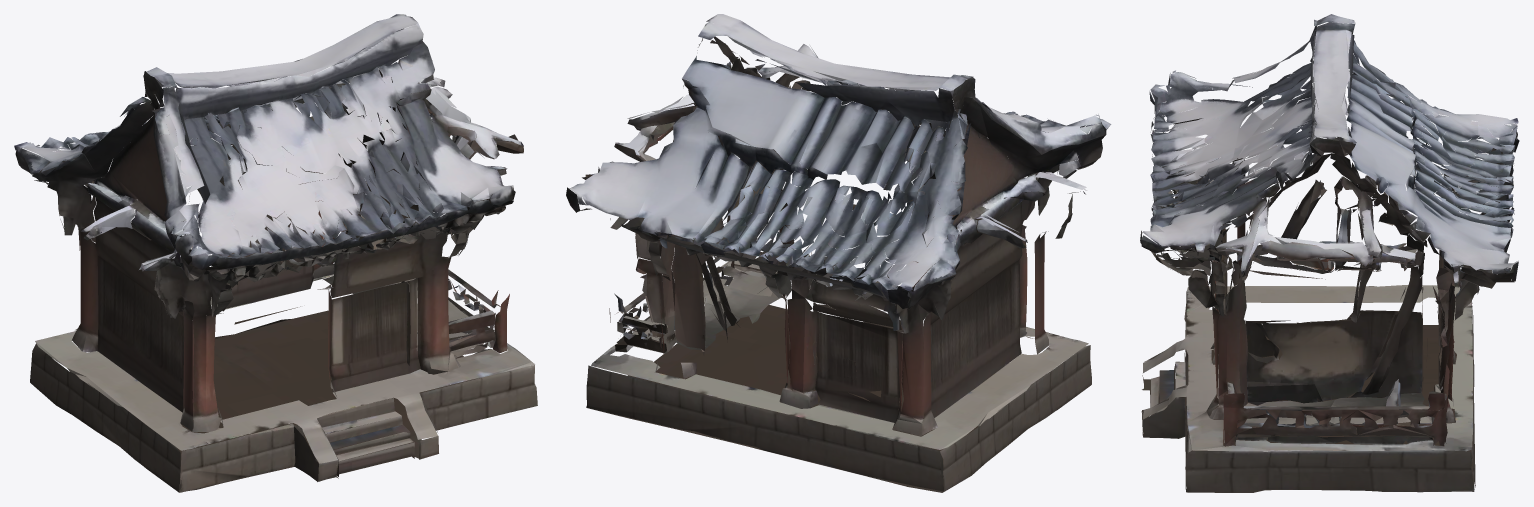
Rendered from snowHall.glb.
The picture shows the model from 3 angles, left to right: view 1: azimuth 30°, elevation 25°; view 2: azimuth 150°, elevation 25°; view 3: azimuth 270°, elevation 25°; orthographic projection. The views are drawn at different scales.
Parts seen in each view (by area): view 1: Prop_snowHall; view 2: Prop_snowHall; view 3: Prop_snowHall.
Part boxes in pixels (left/top/right/bottom): Prop_snowHall: left=14, top=14, right=537, bottom=492; Prop_snowHall: left=566, top=14, right=1111, bottom=492; Prop_snowHall: left=1140, top=14, right=1519, bottom=492.
Size of the model in its own units: 5.82 by 5 by 5.09.
1 material, 1 textured.
